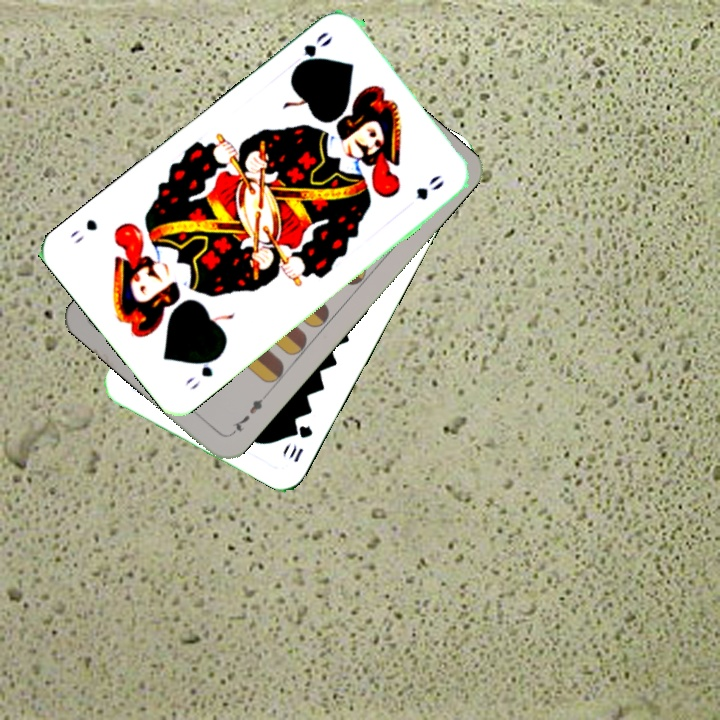E7: (226, 390, 270, 438)
G10: (283, 421, 315, 465)
GO: (180, 349, 225, 392), (292, 27, 336, 70)
